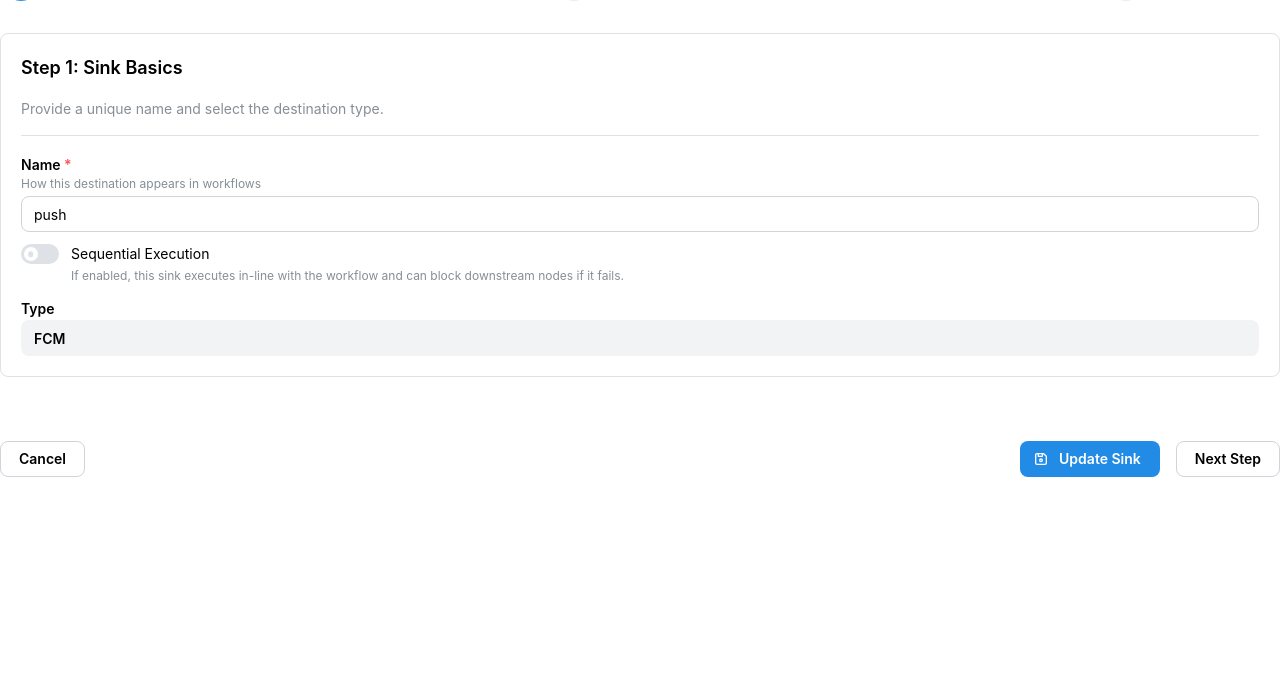
a new fcm sink › leaves a saved sink sending what it always has
The image size is (1280, 679).
Click the button "Next Step".
click(1228, 460)  # box [1176, 442, 1279, 478]
(page scrolled)
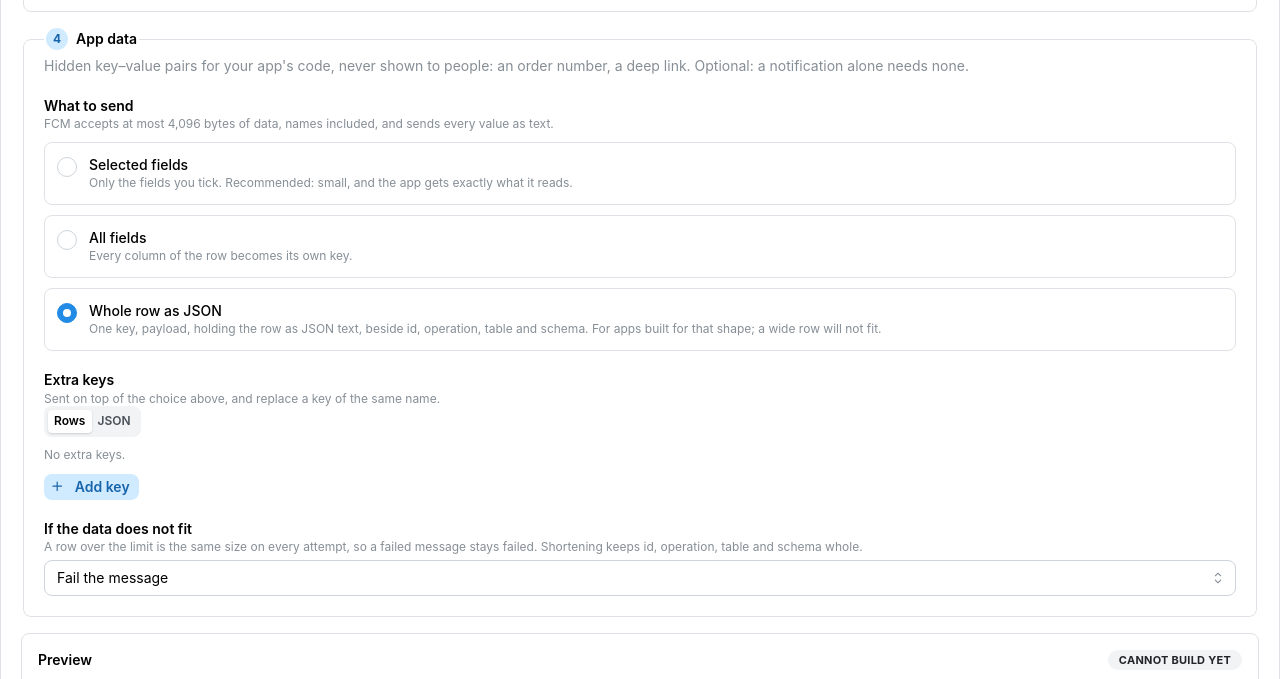
Result: the radio button labelled "Whole row as JSON" is checked at [44, 288, 1236, 351]
